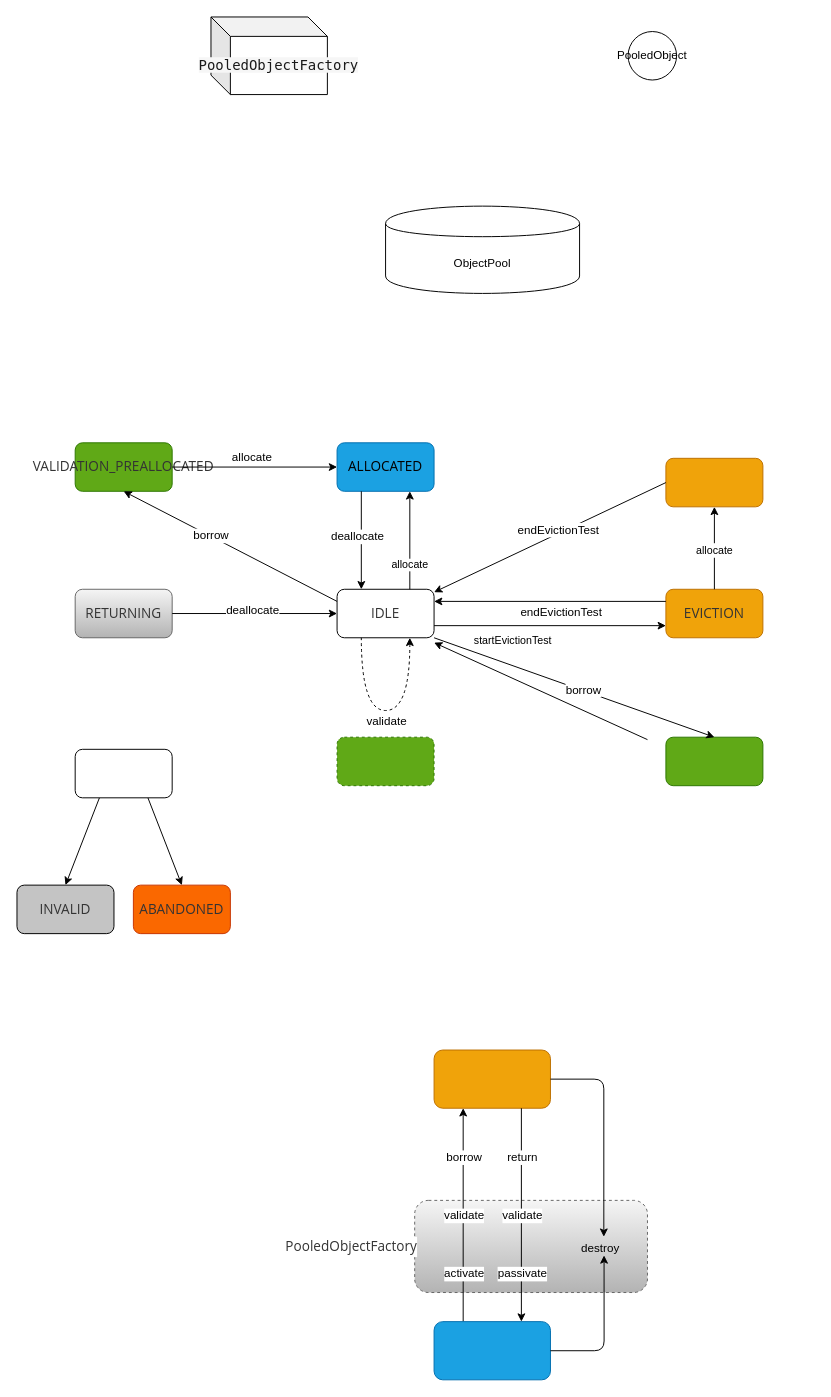
The diagram is 831 pixels wide and 1397 high, and some of its shapes have lost their labels. Each missing label, with the centre of its shape:
ANY: the point at 123,773
Client: the point at 491,1078
EVICTION_RETURN_TO_HEAD: the point at 714,482
Object Pool: the point at 491,1350
VALIDATION: the point at 385,761
VALIDATION_RETURN_TO_HEAD: the point at 714,761
